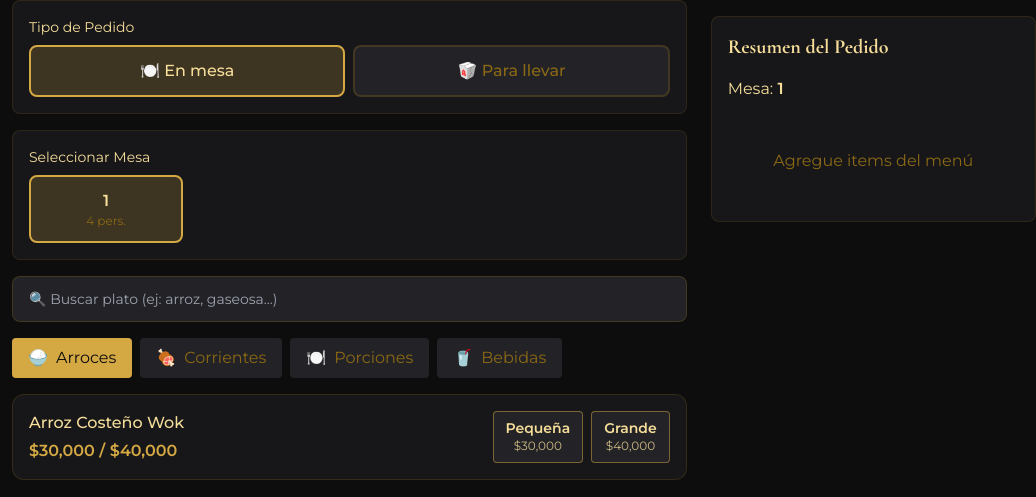
Scenario: limpia el carrito tras una creación exitosa
Click the button with aria-label "Grande Arroz Costeño Wok".
click(630, 437)  # box left=591, top=411, right=670, bottom=463
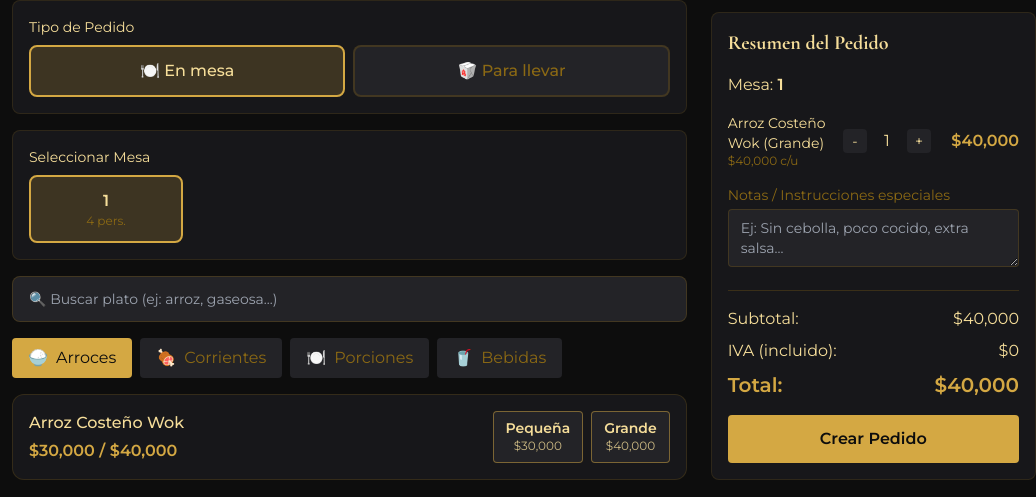
Click the button "Crear Pedido".
click(873, 439)  # box left=728, top=415, right=1019, bottom=463
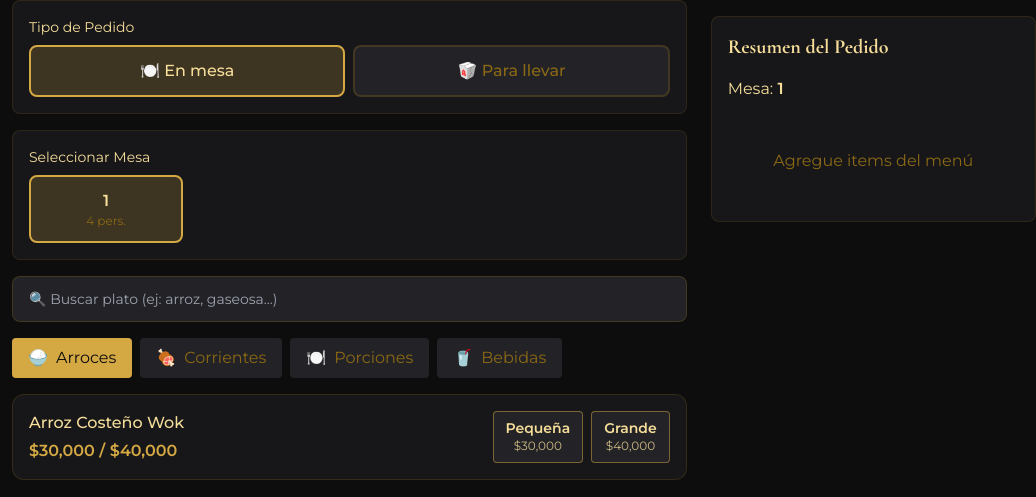
Now the text "Agregue items del menú" is shown, box left=773, top=151, right=973, bottom=170
